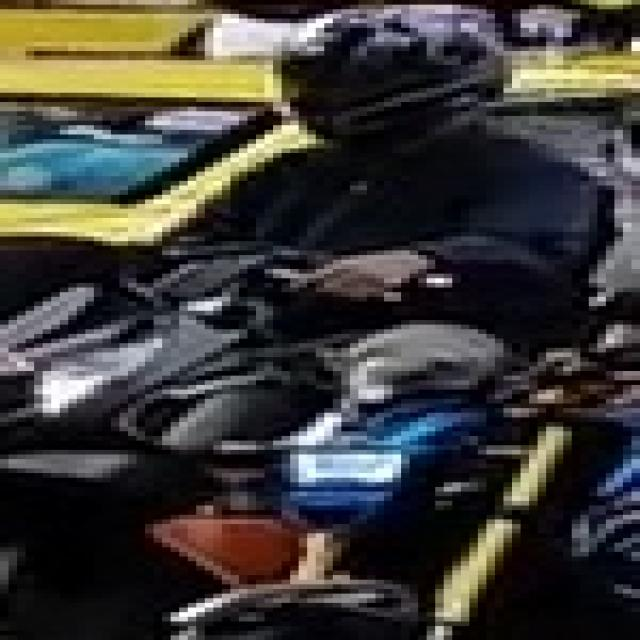door: (0, 0, 631, 635)
helmet: (273, 0, 504, 139)
